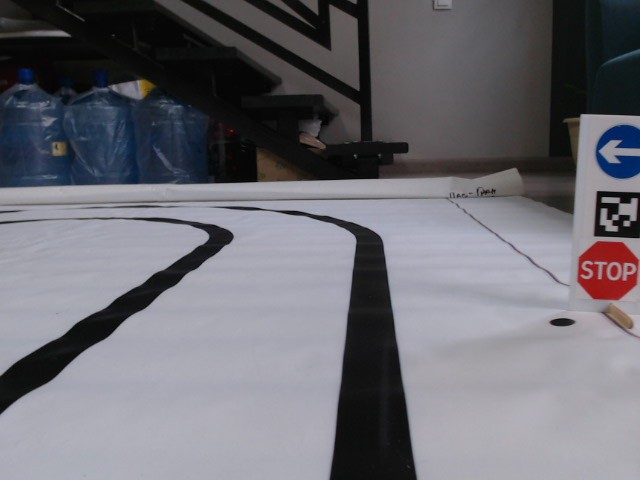Stop: (576, 239, 640, 302)
